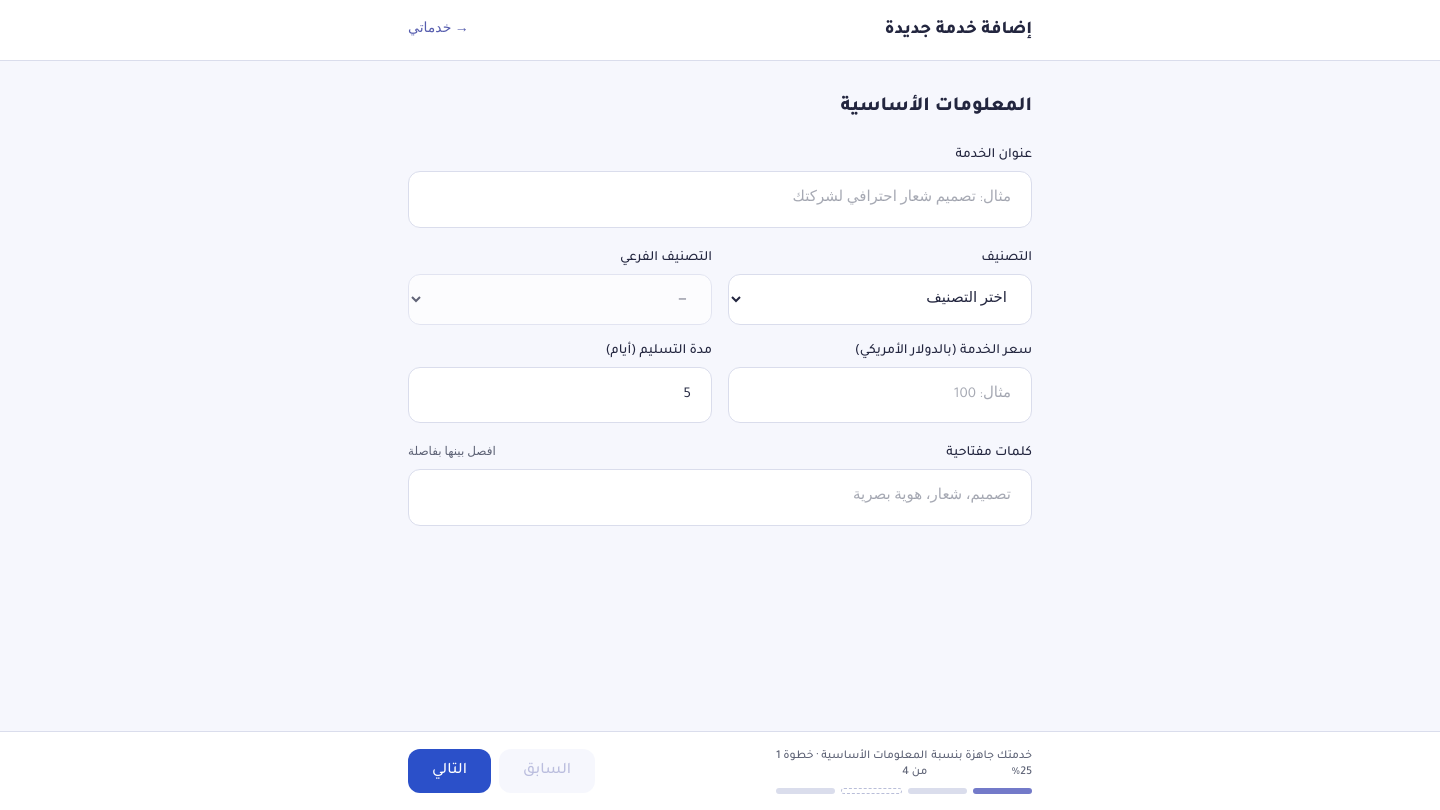
Scenario: ServiceCreateWizard › masks the base price so only one decimal point survives
Type "1.2.3" into the field with placeholder "مثال: 100" at (880,395), box [728,366,1032,423]
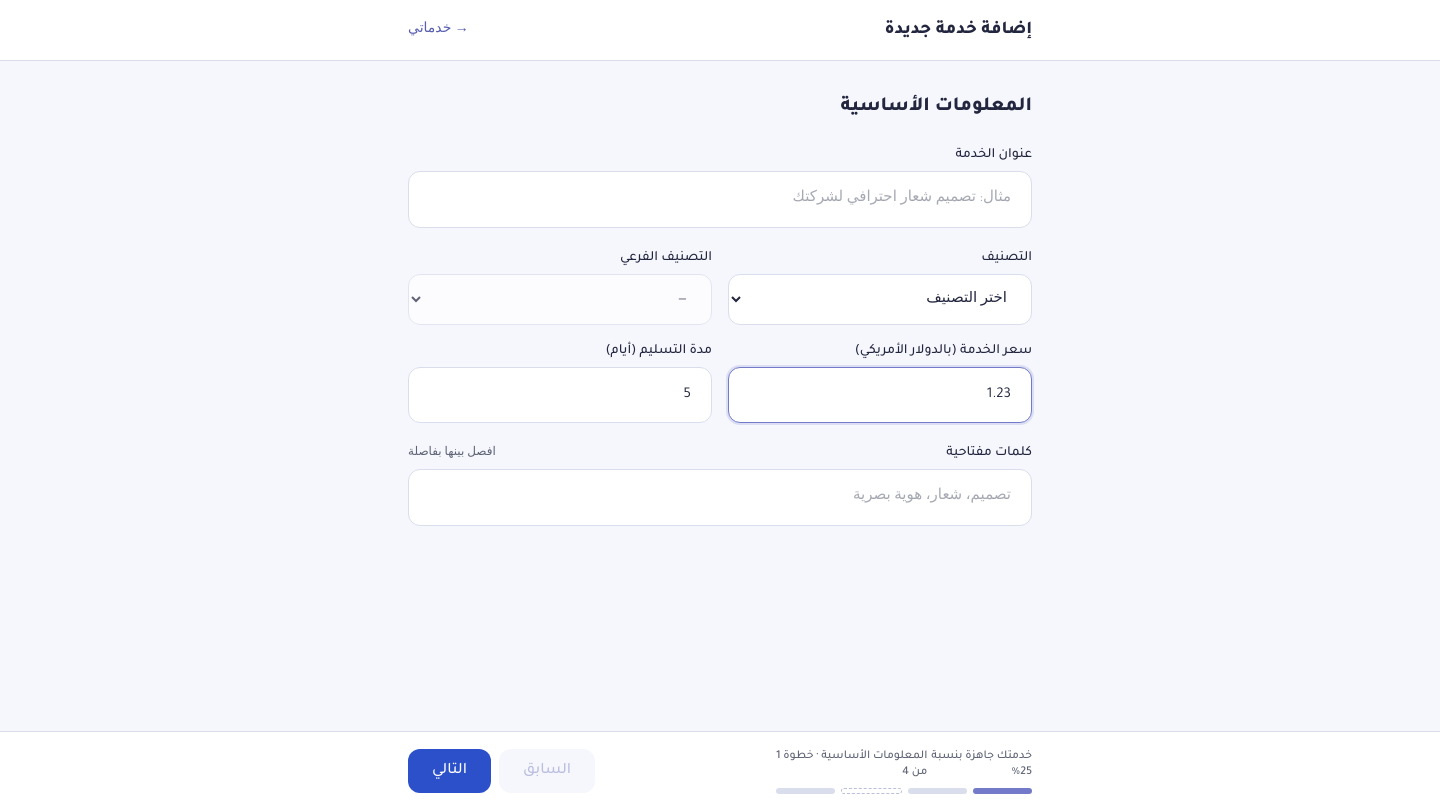
Expected: the field with placeholder "مثال: 100" holds "1.23", [728,366,1032,423]
